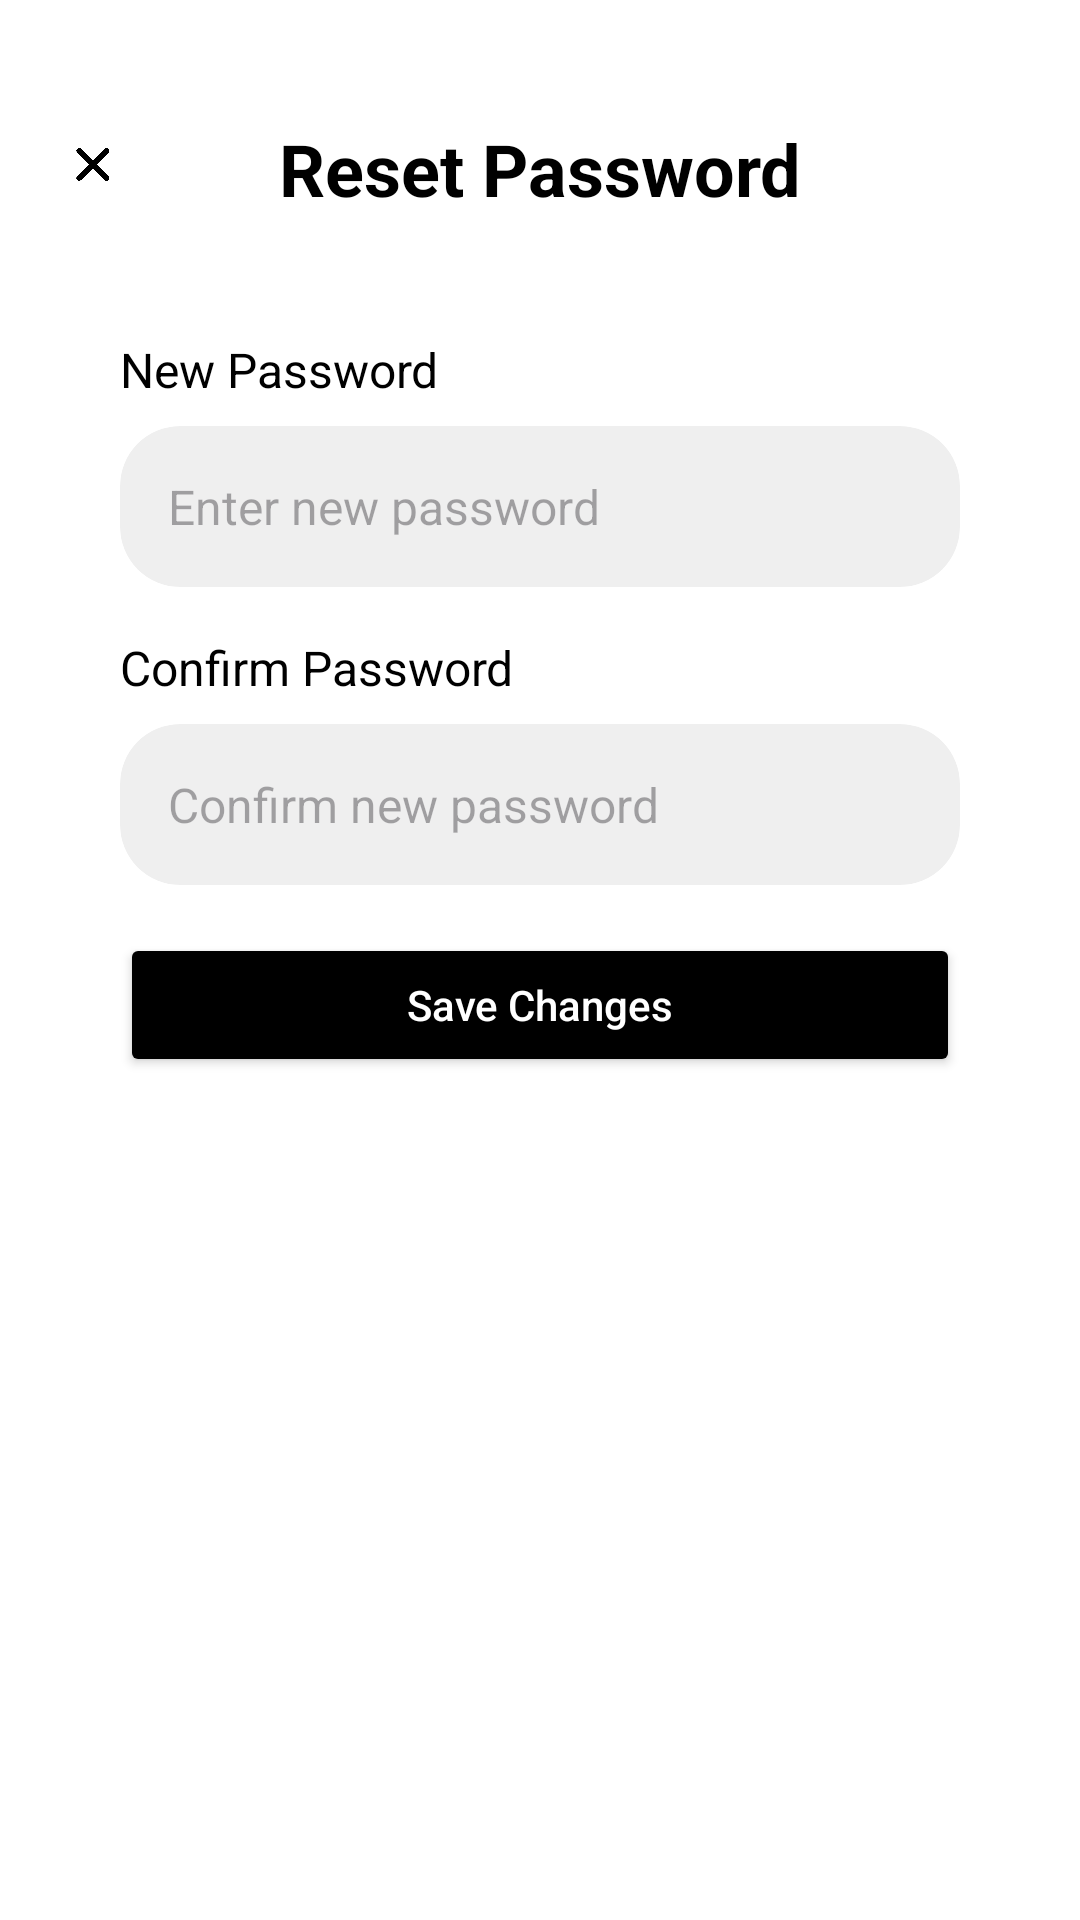

Point at icon controls on the screen. Image size 1080w x 1920h, points as [x,y].
Close: [92,164]
